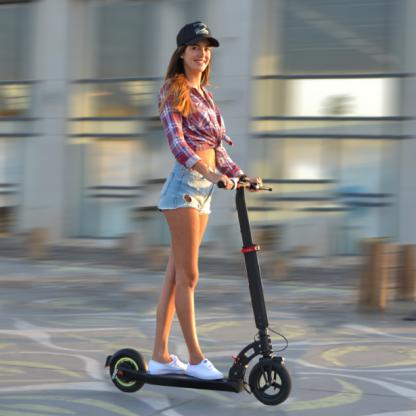scooter: (105, 176, 293, 406)
